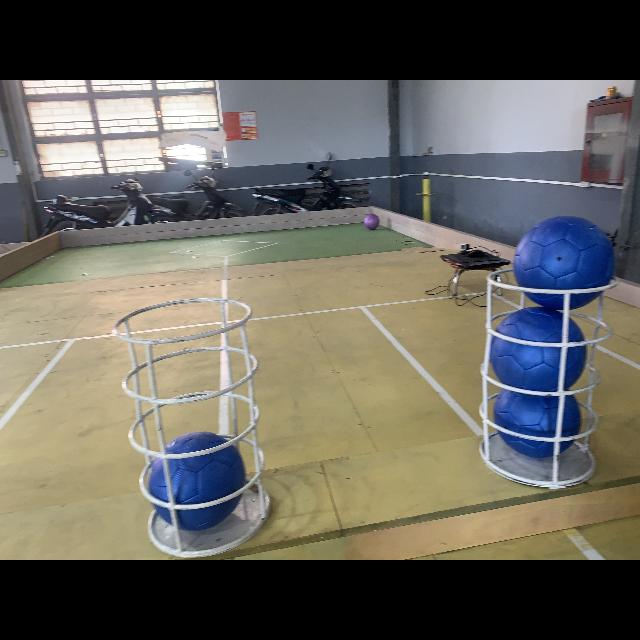B: (148, 432, 245, 530), (513, 216, 615, 306), (492, 306, 586, 392), (494, 386, 580, 456)
